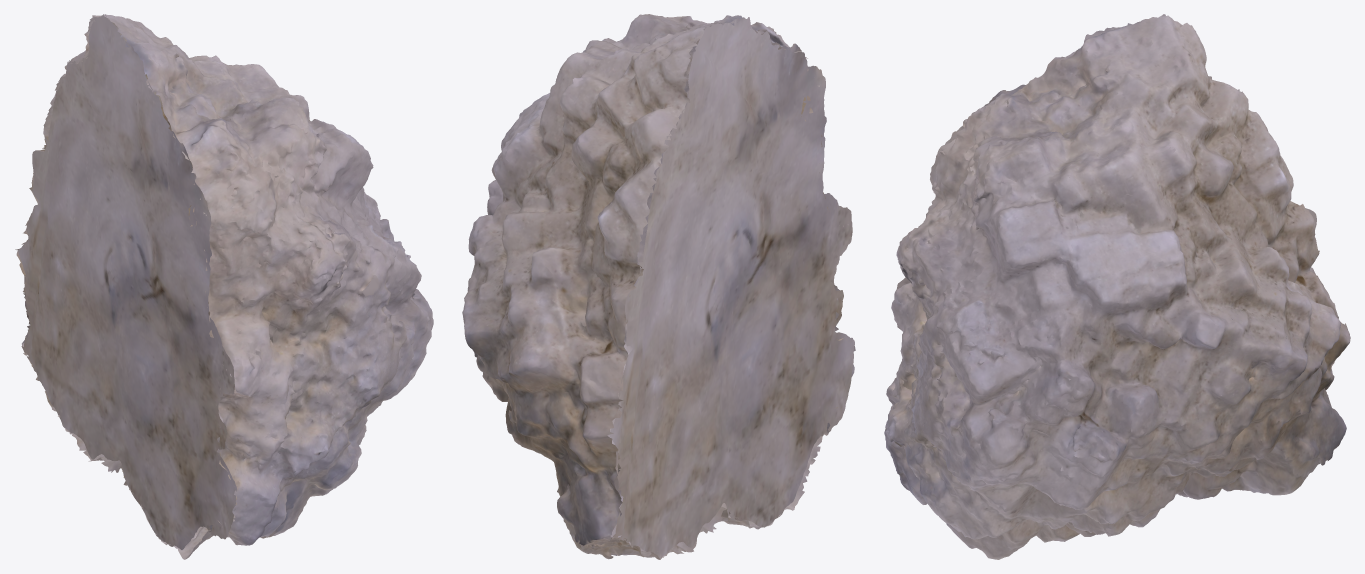
File: halite_part1.glb
3 views of the same model, side by side, from view 1: azimuth 30°, elevation 25°; view 2: azimuth 150°, elevation 25°; view 3: azimuth 270°, elevation 25° (orthographic). The views are drawn at different scales.
Visible parts, largest first — view 1: Object_2.003; view 2: Object_2.003; view 3: Object_2.003.
Boxes of the visible parts, <box> form: Object_2.003: <box>15,14,433,559</box>; Object_2.003: <box>462,14,855,559</box>; Object_2.003: <box>884,14,1350,559</box>.
Size of the model in its own units: 21.97 by 41.07 by 34.02.
1 material, 1 textured.
